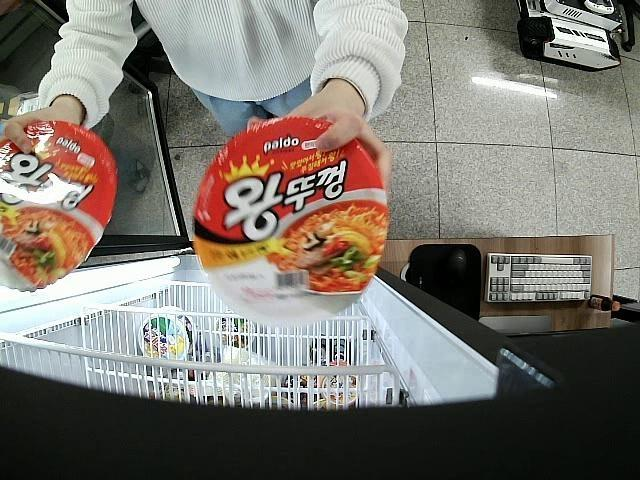10_wangTtukkeong: (193, 116, 390, 326), (0, 120, 116, 292)
